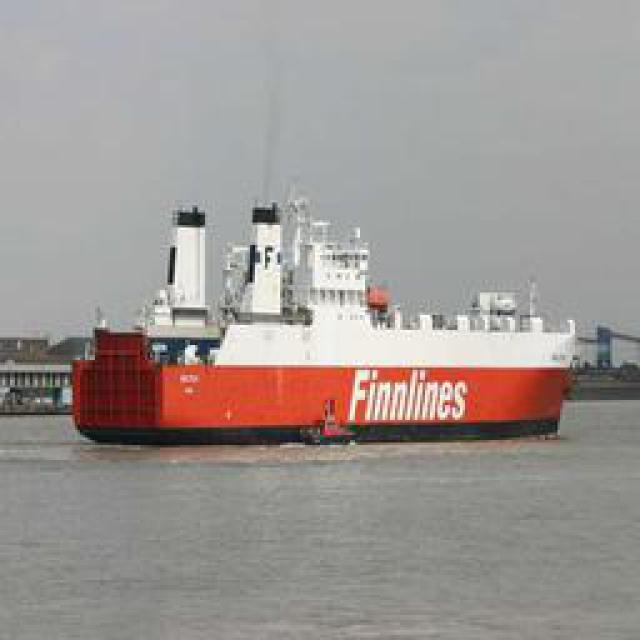Ship: (70, 296, 573, 449)
